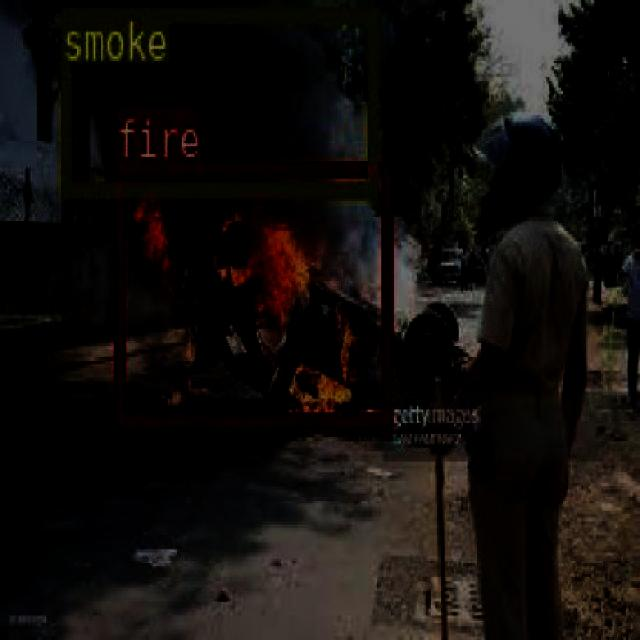fire: (113, 160, 390, 426)
smoke: (58, 5, 376, 193)
